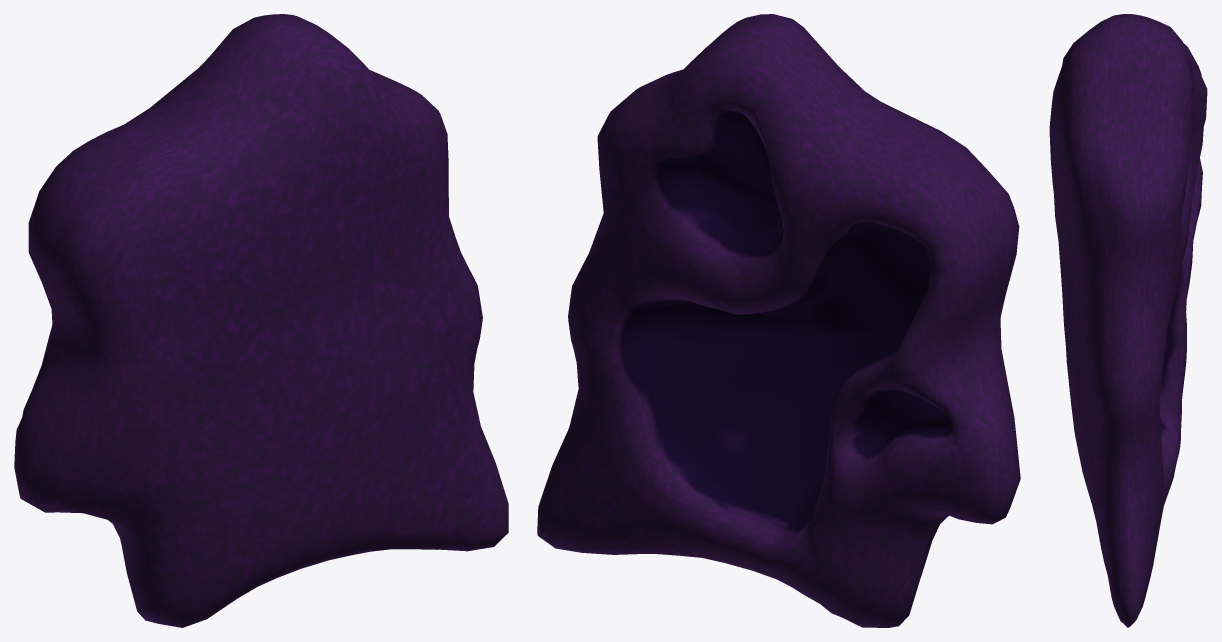
Rendered from claustrofobia.fbx.
The picture shows the model from 3 angles, left to right: view 1: azimuth 30°, elevation 25°; view 2: azimuth 150°, elevation 25°; view 3: azimuth 270°, elevation 25°; orthographic projection. The views are drawn at different scales.
Parts seen in each view (by area): view 1: claustrofobia; view 2: claustrofobia; view 3: claustrofobia.
Boxes of the visible parts, x1=… form: claustrofobia: x1=14, y1=14, x2=508, y2=627; claustrofobia: x1=537, y1=14, x2=1020, y2=627; claustrofobia: x1=1049, y1=14, x2=1207, y2=627.
Bounding box in the file's own units: 3.9 × 4.46 × 1.24.
